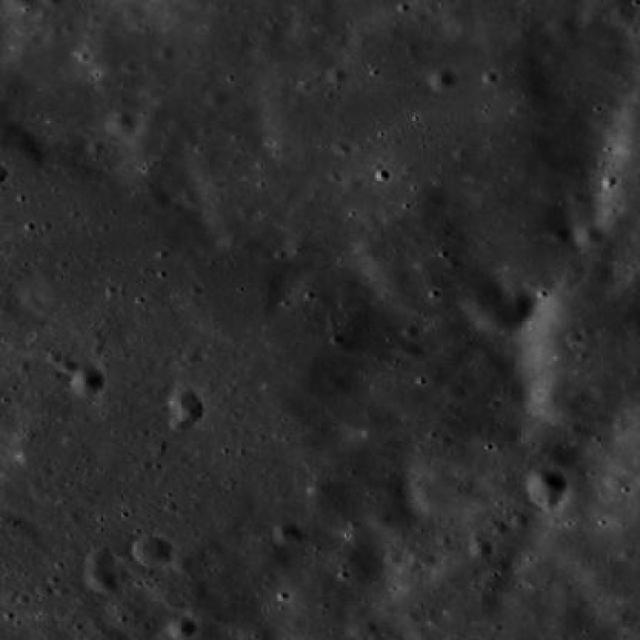crater: (170, 240, 290, 340), (534, 356, 626, 432), (288, 264, 376, 338), (406, 460, 476, 518), (473, 286, 532, 336), (455, 272, 508, 316), (524, 469, 570, 506), (134, 534, 172, 566), (170, 390, 204, 419), (72, 367, 106, 395), (84, 566, 118, 594), (105, 111, 136, 135), (550, 15, 579, 40), (574, 222, 604, 246), (87, 548, 115, 572), (430, 66, 458, 89), (168, 616, 195, 639), (276, 523, 302, 545), (470, 538, 495, 558), (369, 507, 394, 527), (205, 86, 230, 106), (170, 414, 190, 432), (444, 381, 464, 397)
